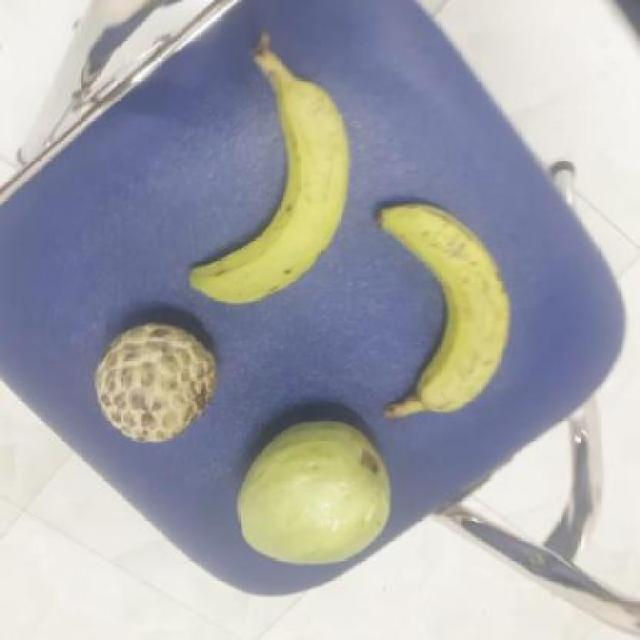banana: (184, 71, 348, 302), (374, 205, 511, 421)
guava: (235, 415, 392, 571)
sugar apple: (89, 323, 215, 445)
